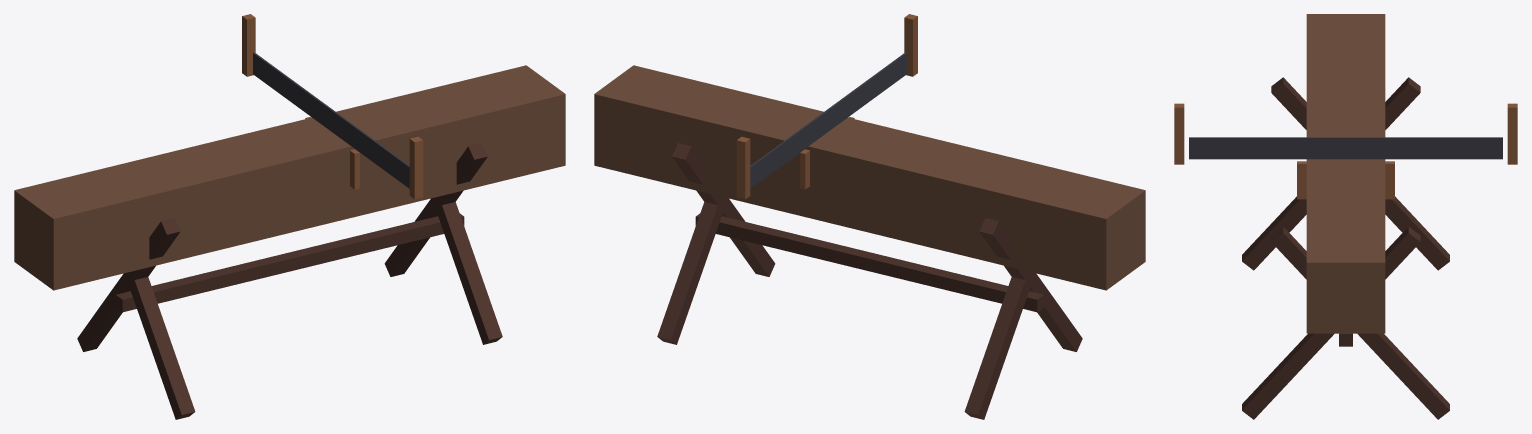
The model's file is sawhorse.glb.
The picture shows the model from 3 angles, left to right: view 1: azimuth 30°, elevation 25°; view 2: azimuth 150°, elevation 25°; view 3: azimuth 270°, elevation 25°; orthographic projection.
Parts seen in each view (by area): view 1: a-0.9; view 2: a-0.9; view 3: a-0.9.
Boxes of the visible parts, left/top/right/bottom form: a-0.9: left=14, top=14, right=565, bottom=419; a-0.9: left=594, top=14, right=1145, bottom=419; a-0.9: left=1174, top=14, right=1517, bottom=419.
Bounding box in the file's own units: 3 × 1.45 × 1.75.
